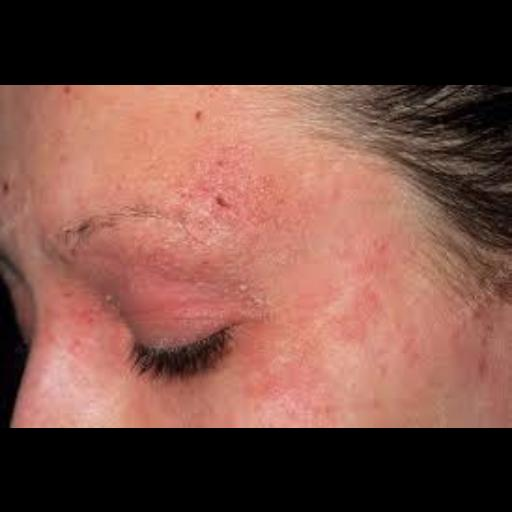Skin_Lesion: (224, 252, 270, 314), (254, 172, 292, 224), (197, 182, 243, 218), (356, 287, 390, 319), (365, 236, 393, 260), (91, 285, 119, 309), (207, 148, 231, 174), (0, 174, 18, 198), (187, 104, 207, 124)
